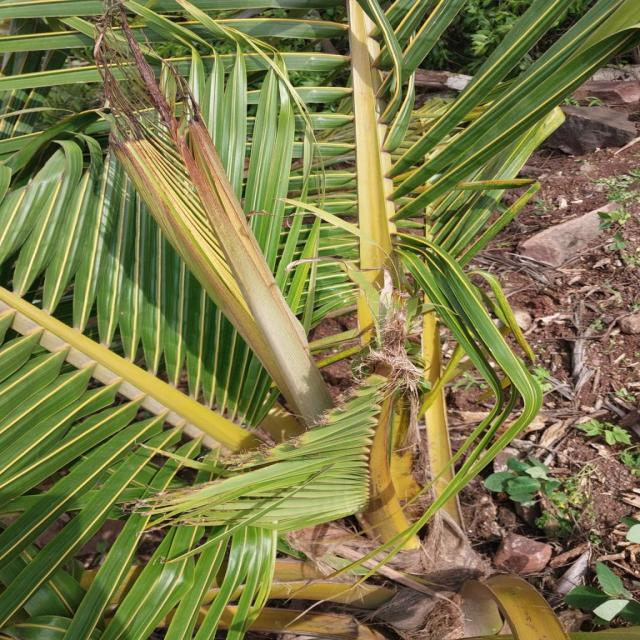bud rot: (95, 4, 332, 424), (97, 25, 332, 424), (377, 280, 414, 395)
